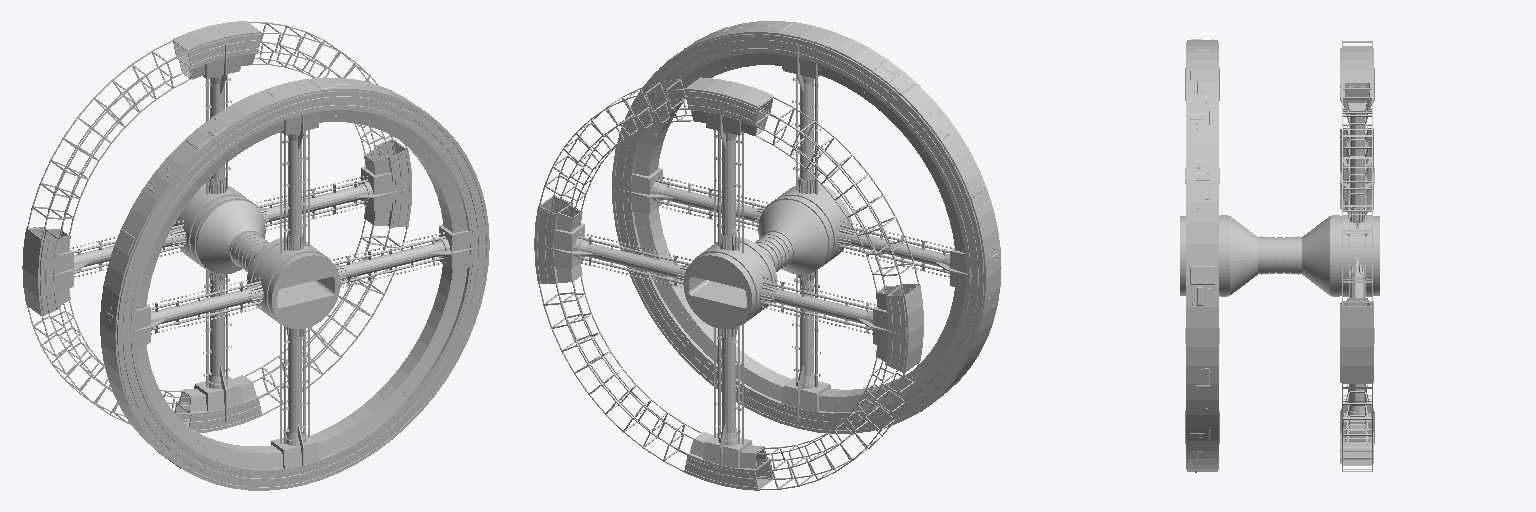
The model's file is space station V.obj.
The picture shows the model from 3 angles: view 1: azimuth 30°, elevation 25°; view 2: azimuth 150°, elevation 25°; view 3: azimuth 270°, elevation 25°; orthographic projection.
Visible parts, largest first — view 1: Wheel01_Wheel01_0, Mesh01_Material_#26_0, Wheel_Gird_wheel_girders_0, Hub_Wheel_1_0, Cables01_cables_0, Wheel02_Wheel01_0, Bay_Face_0_hubface_0, Spoke03_spokes_0, Spoke02_spokes_0, Spoke01_spokes_0, Spoke04_spokes_0, Blocks02_block_0 (+10 smaller); view 2: Wheel01_Wheel01_0, Mesh02_Material_#26_0, Wheel_Gird_wheel_girders_0, Hub_Wheel_1_0, Cables01_cables_0, Wheel02_Wheel01_0, Bay_Face_1_hubface_0, Spoke03_spokes_0, Spoke02_spokes_0, Spoke04_spokes_0, Spoke01_spokes_0, Blocks02_block_0 (+10 smaller); view 3: Wheel01_Wheel01_0, Hub_Wheel_1_0, Wheel02_Wheel01_0, Wheel_Gird_wheel_girders_0, Spoke01_spokes_0, Cables01_cables_0, Spoke_Supp_spoke_support_0.
Part boxes in pixels (bbox=[...]): Wheel01_Wheel01_0: bbox=[100, 77, 489, 490]; Mesh01_Material_#26_0: bbox=[118, 91, 488, 489]; Wheel_Gird_wheel_girders_0: bbox=[27, 22, 407, 427]; Hub_Wheel_1_0: bbox=[172, 183, 331, 325]; Cables01_cables_0: bbox=[69, 74, 445, 444]; Wheel02_Wheel01_0: bbox=[22, 21, 411, 432]; Bay_Face_0_hubface_0: bbox=[272, 255, 340, 328]; Spoke03_spokes_0: bbox=[209, 279, 305, 445]; Spoke02_spokes_0: bbox=[263, 182, 450, 278]; Spoke01_spokes_0: bbox=[210, 76, 304, 249]; Spoke04_spokes_0: bbox=[74, 233, 262, 328]; Blocks02_block_0: bbox=[361, 166, 469, 269]; Wheel01_Wheel01_0: bbox=[612, 21, 1001, 433]; Mesh02_Material_#26_0: bbox=[613, 34, 983, 432]; Wheel_Gird_wheel_girders_0: bbox=[538, 79, 919, 490]; Hub_Wheel_1_0: bbox=[692, 183, 851, 325]; Cables01_cables_0: bbox=[578, 74, 951, 444]; Wheel02_Wheel01_0: bbox=[534, 77, 923, 490]; Bay_Face_1_hubface_0: bbox=[683, 255, 751, 328]; Spoke03_spokes_0: bbox=[718, 279, 814, 445]; Spoke02_spokes_0: bbox=[574, 182, 760, 278]; Spoke04_spokes_0: bbox=[761, 232, 949, 328]; Spoke01_spokes_0: bbox=[719, 76, 813, 249]; Blocks02_block_0: bbox=[554, 167, 662, 268]; Wheel01_Wheel01_0: bbox=[1186, 39, 1218, 472]; Hub_Wheel_1_0: bbox=[1180, 215, 1379, 296]; Wheel02_Wheel01_0: bbox=[1340, 46, 1373, 464]; Wheel_Gird_wheel_girders_0: bbox=[1342, 41, 1372, 471]; Spoke01_spokes_0: bbox=[1350, 114, 1364, 208]; Cables01_cables_0: bbox=[1348, 84, 1366, 414]; Spoke_Supp_spoke_support_0: bbox=[1185, 68, 1374, 443].
Size of the model in its own units: 24893 by 24929 by 11507.